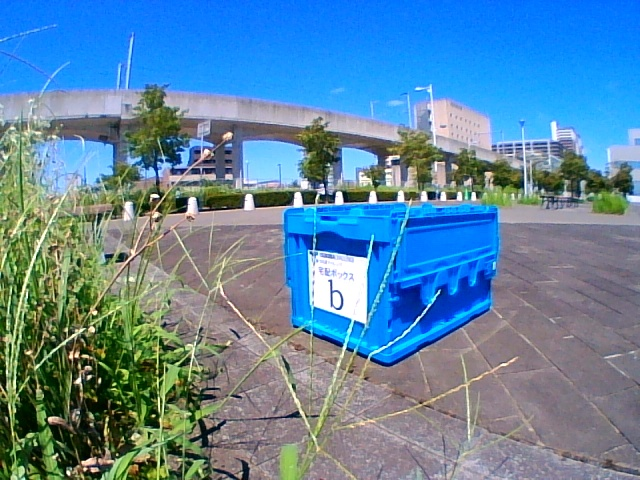blue_box: (292, 210, 462, 325)
tag_b: (326, 263, 358, 310)
